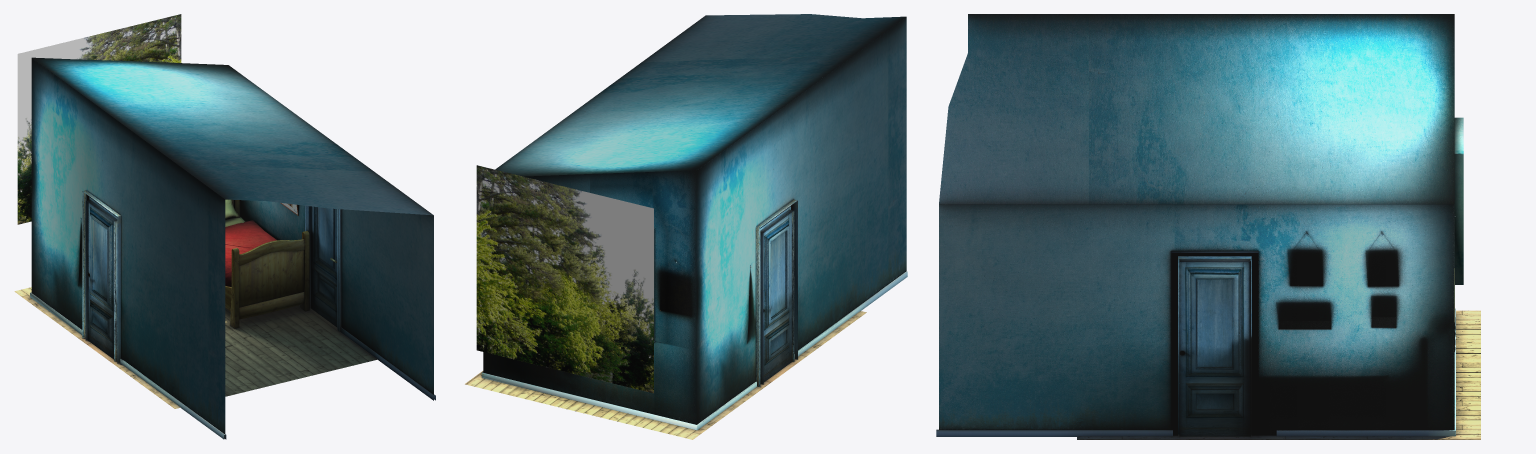
File: Apartment.obj
The picture shows the model from 3 angles, left to right: view 1: azimuth 30°, elevation 25°; view 2: azimuth 150°, elevation 25°; view 3: azimuth 270°, elevation 25°; orthographic projection. The views are drawn at different scales.
Bounding box in the file's own units: 17.68 × 19.31 × 33.84.
15 materials, 15 textured.
